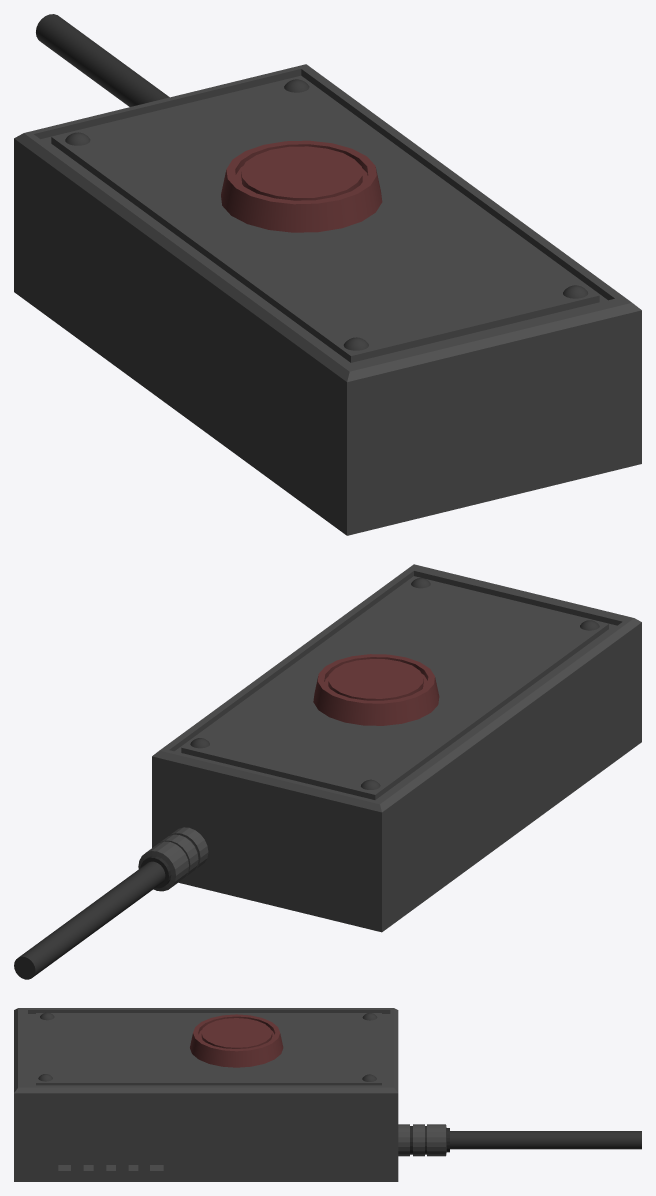
The model's file is Detonator.fbx.
The picture shows the model from 3 angles, top to bottom: view 1: azimuth 30°, elevation 25°; view 2: azimuth 150°, elevation 25°; view 3: azimuth 270°, elevation 25°; orthographic projection. The views are drawn at different scales.
Visible parts, largest first — view 1: pCube1, pCylinder3, pCylinder2; view 2: pCube1, pCylinder3, pCylinder2, pCylinder1; view 3: pCube1, pCylinder3, pCylinder2, pCylinder1.
Boxes of the visible parts, x1,y1,x2,y2 form: pCube1: (14, 64, 641, 535); pCylinder3: (221, 140, 382, 232); pCylinder2: (36, 14, 169, 106); pCube1: (152, 564, 641, 932); pCylinder3: (313, 654, 439, 725); pCylinder2: (14, 861, 165, 979); pCylinder1: (138, 827, 208, 891); pCube1: (14, 1008, 398, 1181); pCylinder3: (190, 1014, 283, 1067); pCylinder2: (450, 1131, 641, 1149); pCylinder1: (398, 1124, 449, 1156).
Size of the model in its own units: 1.93 by 1.16 by 6.16.
